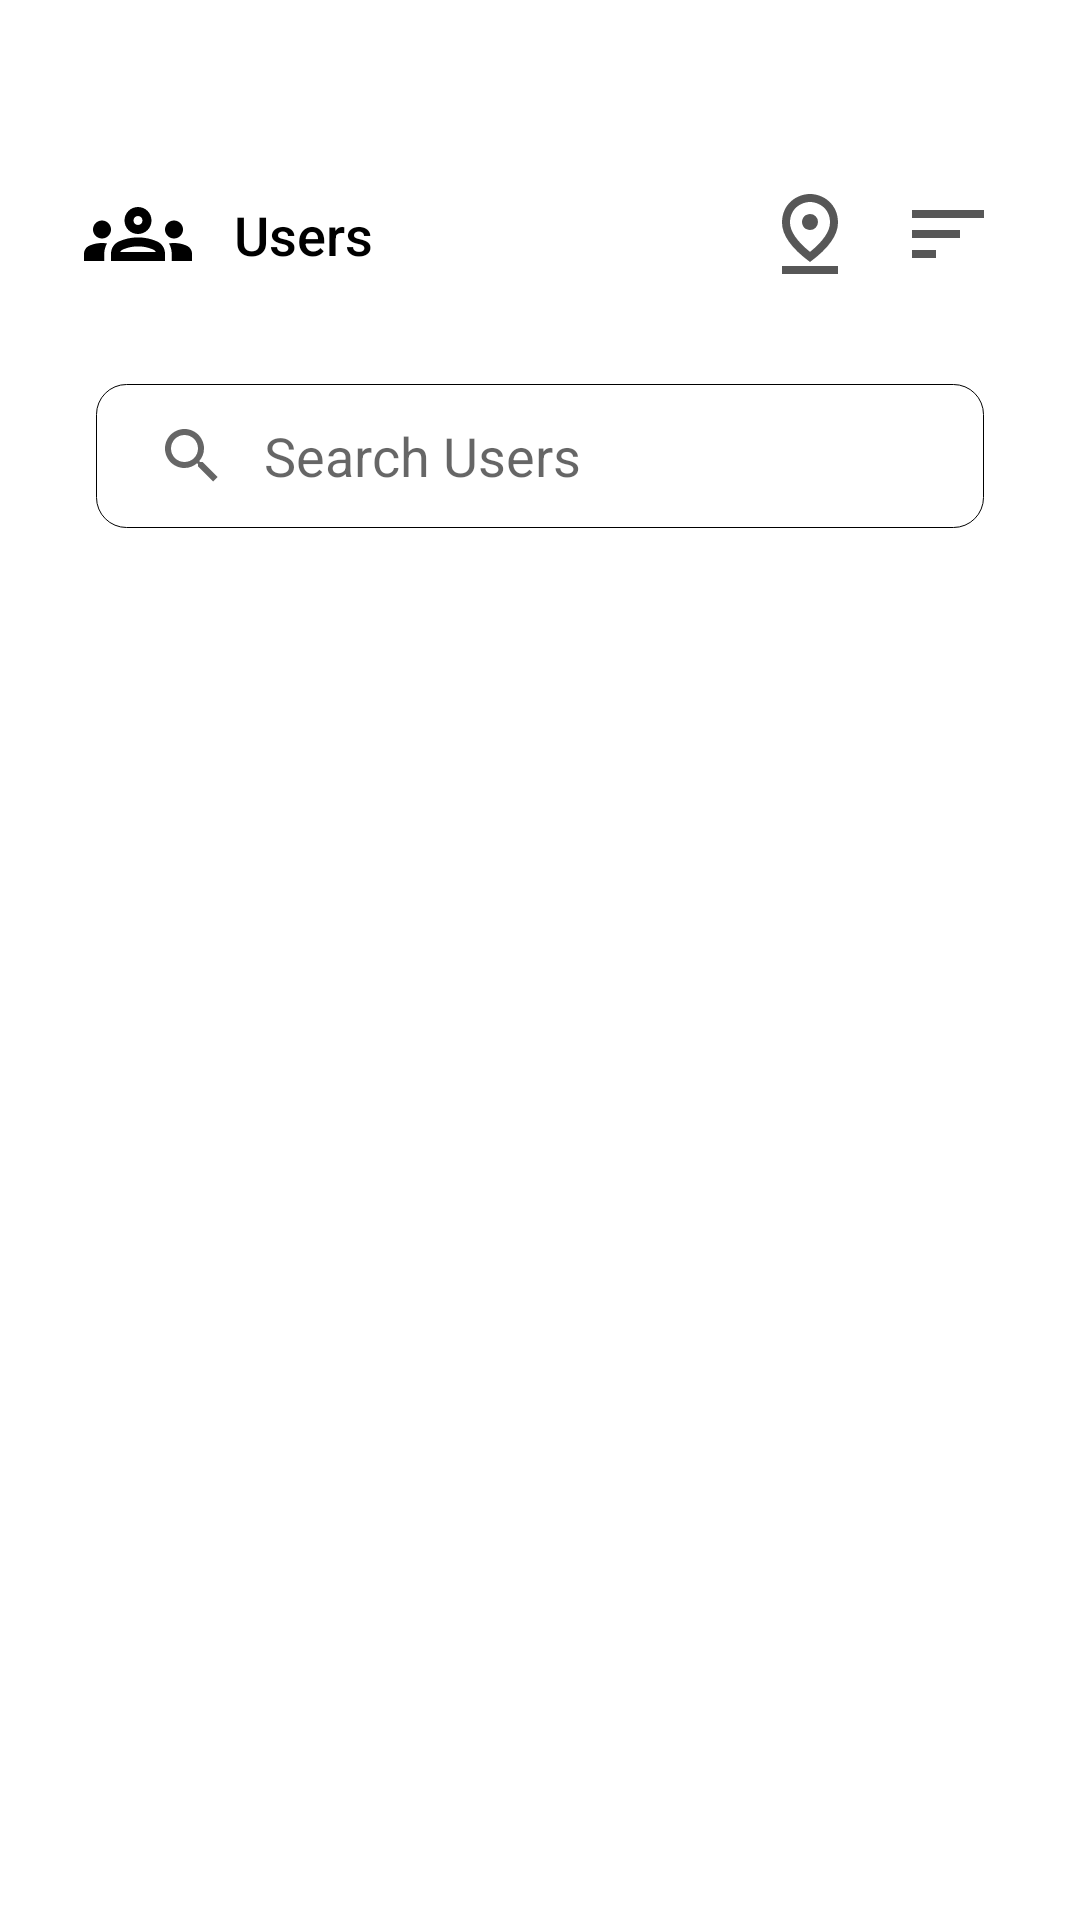

Where to tap for icons on this 1080px x 1920px app screen, as (x=x, y=y):
pin drop: (x=810, y=234)
sort: (x=948, y=234)
